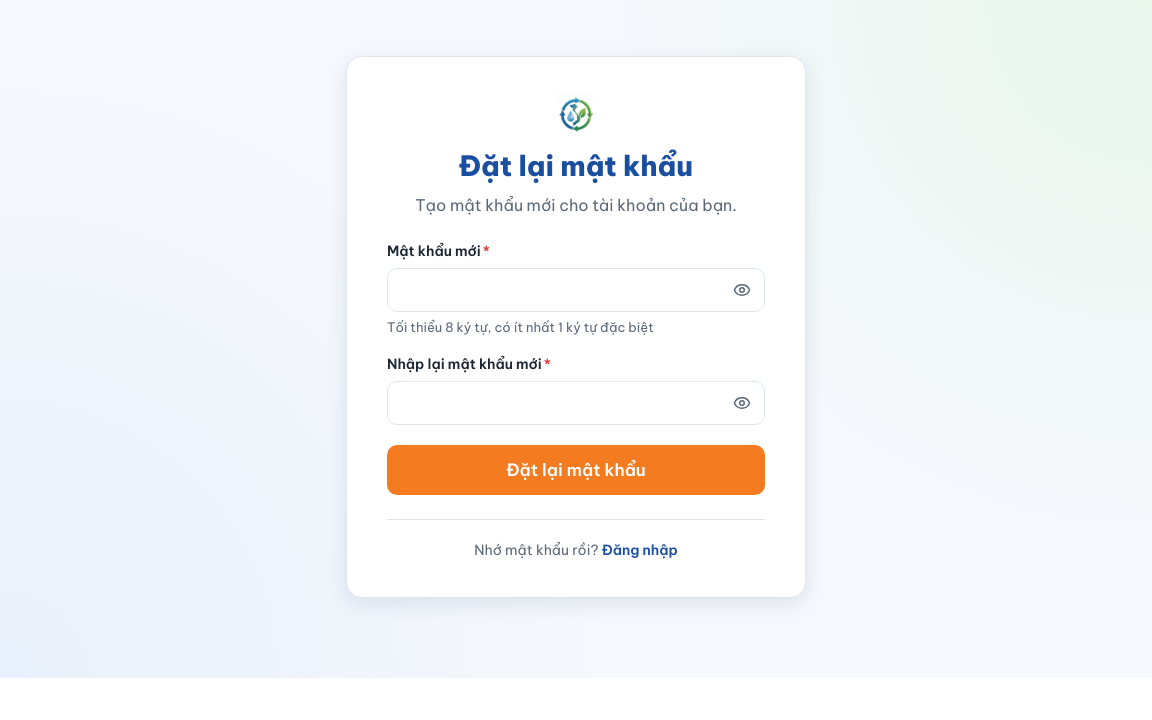
Test case: ResetPasswordPage › submits token with the new password
Type "Matkhau@123" into the password field labelled "Mật khẩu mới*" at (576, 290), box [387,268,765,312]
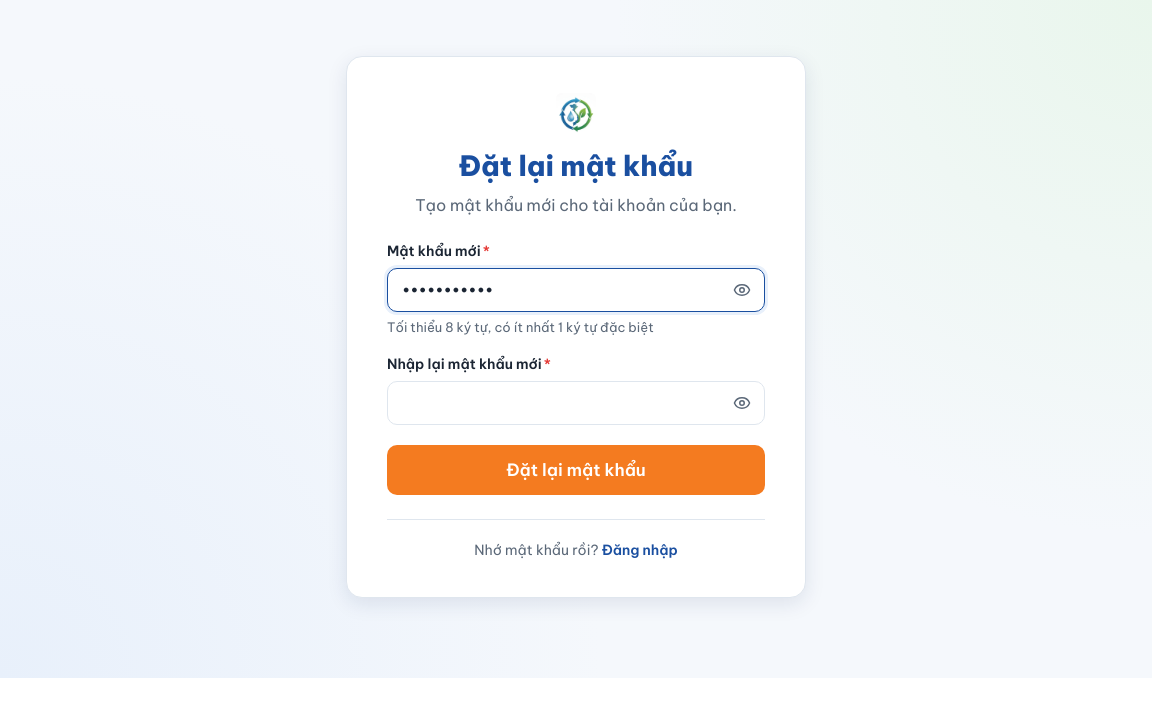
Type "Matkhau@123" into the password field labelled "Nhập lại mật khẩu mới*" at (576, 402), box [387,380,765,424]
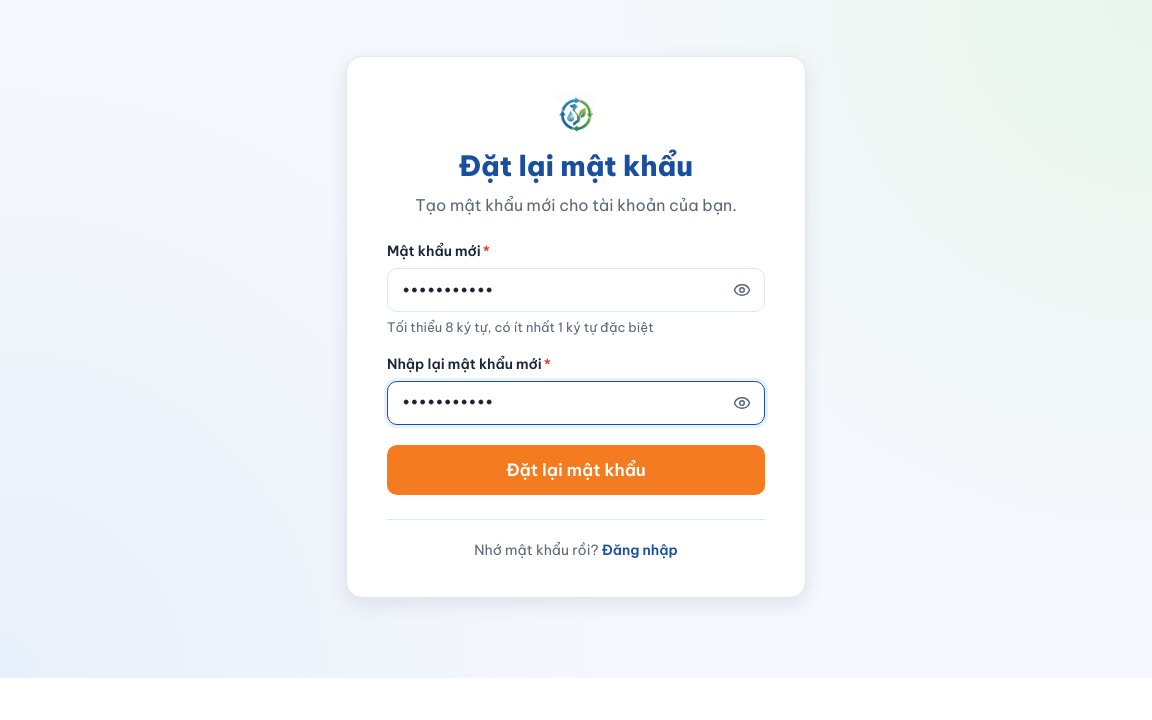
Click the button "Đặt lại mật khẩu" at (576, 470), box [387,444,765,495]
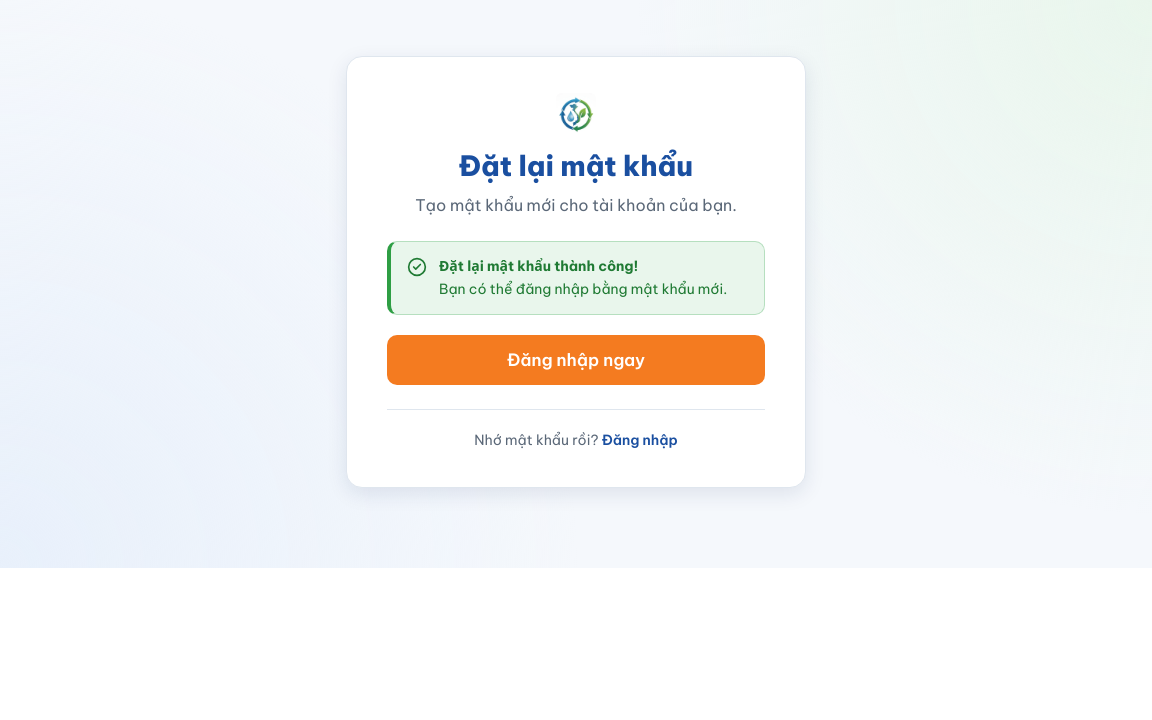
Now the text "Đặt lại mật khẩu thành công!" is shown, box [439,257,638,275]
